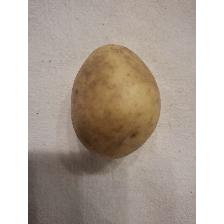Kartoffel: (69, 41, 165, 163)
